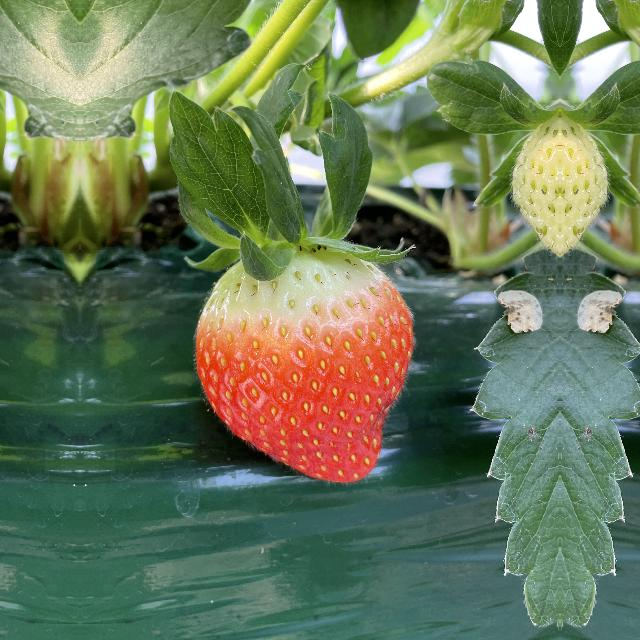Health_100: (190, 236, 414, 490)
